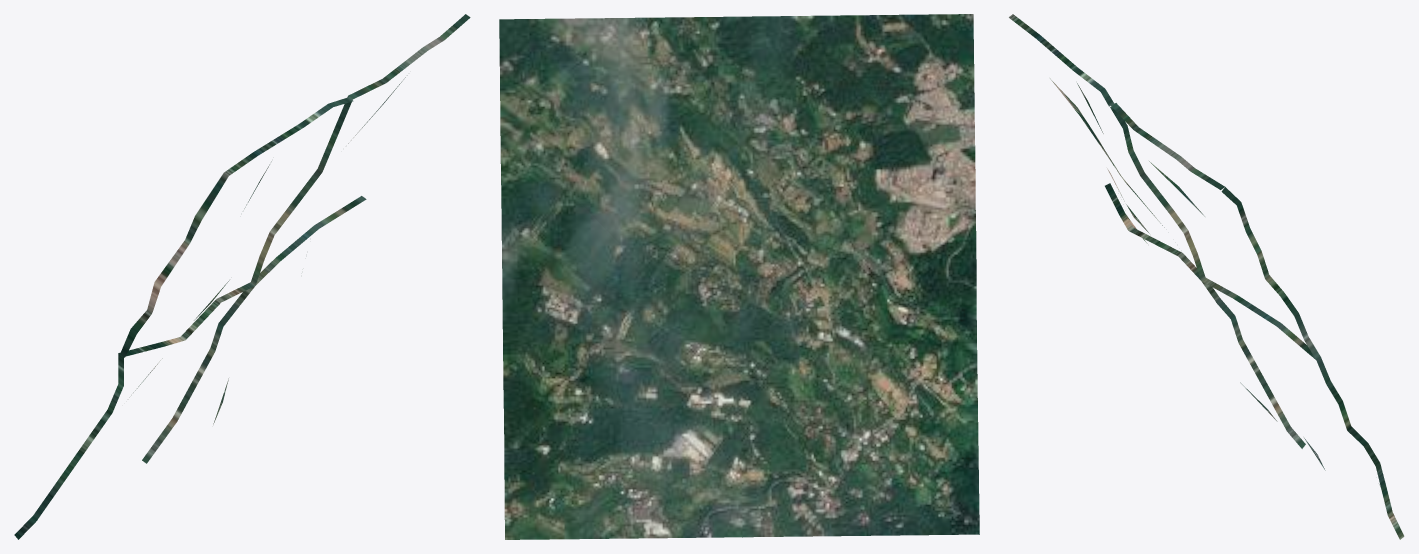
3 renders of one model, left to right at view 1: azimuth 30°, elevation 25°; view 2: azimuth 150°, elevation 25°; view 3: azimuth 270°, elevation 25°, orthographic. The views are drawn at different scales.
Size of the model in its own units: 2553 by 2259 by 1989.
Materials: 1 (1 with a texture image).
